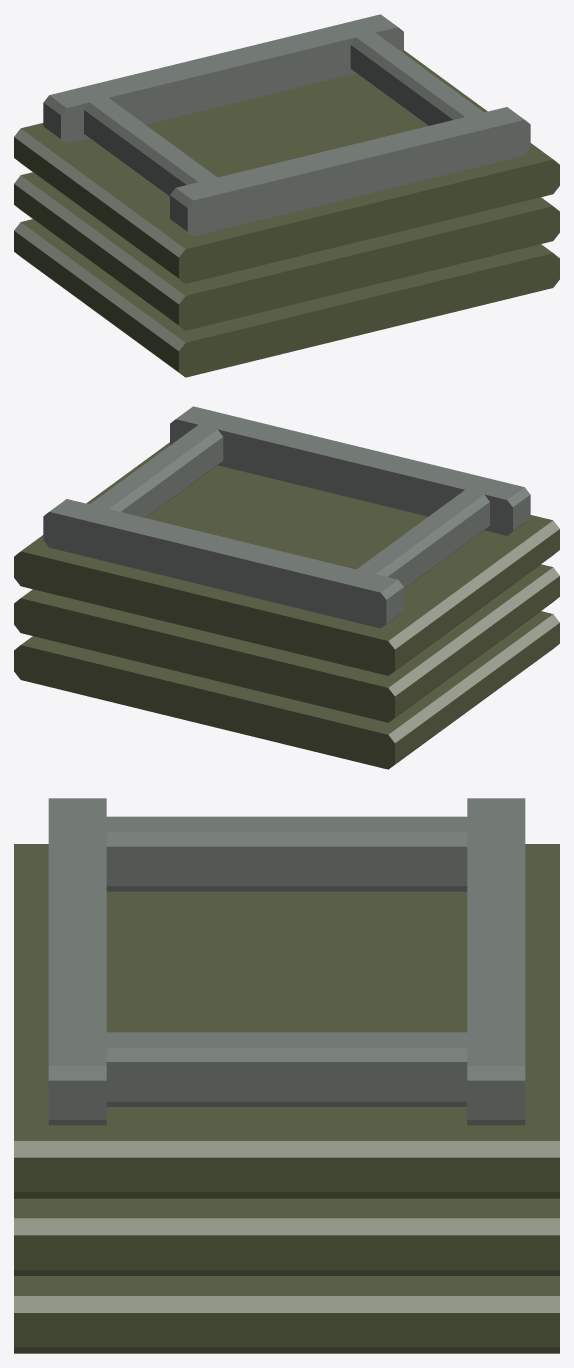
Rendered from StructuralComponents.gltf.
3 views of the same model, one above another, from view 1: azimuth 30°, elevation 25°; view 2: azimuth 150°, elevation 25°; view 3: azimuth 270°, elevation 25° (orthographic). The views are drawn at different scales.
Parts seen in each view (by area): view 1: StructuralComponents; view 2: StructuralComponents; view 3: StructuralComponents.
Boxes of the visible parts, x1,y1,x2,y2 form: StructuralComponents: (14, 14, 559, 377); StructuralComponents: (14, 406, 559, 769); StructuralComponents: (14, 798, 559, 1353).
Size of the model in its own units: 0.4 by 0.1655 by 0.3.
